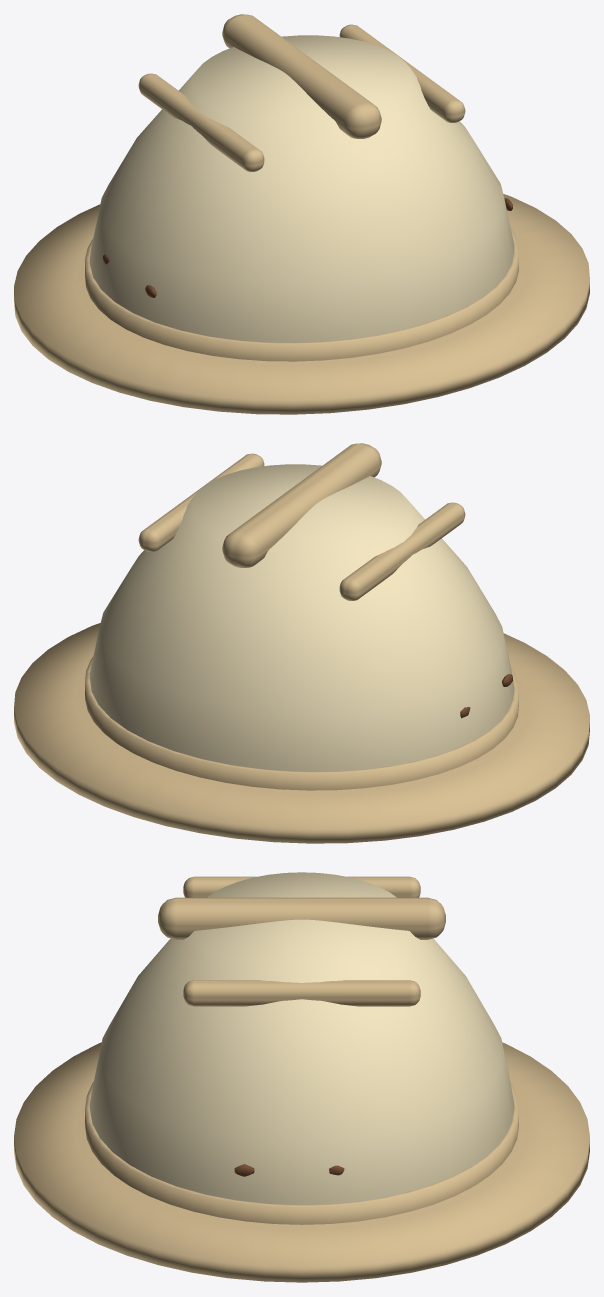
Rendered from 09-dune-pith.glb.
3 views of the same model, one above another, from view 1: azimuth 30°, elevation 25°; view 2: azimuth 150°, elevation 25°; view 3: azimuth 270°, elevation 25° (orthographic). The views are drawn at different scales.
Visible parts, largest first — view 1: Hat09_Crown1, Hat09_Brim2, Hat09_Band3, Hat09_TopRidge4, Hat09_ShellRib5, Hat09_ShellRib6; view 2: Hat09_Crown1, Hat09_Brim2, Hat09_Band3, Hat09_TopRidge4, Hat09_ShellRib5, Hat09_ShellRib6; view 3: Hat09_Crown1, Hat09_Brim2, Hat09_Band3, Hat09_TopRidge4, Hat09_ShellRib6, Hat09_ShellRib5.
Boxes of the visible parts, x1,y1,x2,y2 form: Hat09_Crown1: [89, 35, 514, 342]; Hat09_Brim2: [14, 194, 589, 414]; Hat09_Band3: [85, 228, 518, 361]; Hat09_TopRidge4: [222, 14, 381, 138]; Hat09_ShellRib5: [138, 73, 264, 171]; Hat09_ShellRib6: [339, 24, 465, 122]; Hat09_Crown1: [89, 464, 514, 771]; Hat09_Brim2: [14, 623, 589, 843]; Hat09_Band3: [85, 657, 518, 790]; Hat09_TopRidge4: [222, 443, 381, 567]; Hat09_ShellRib5: [339, 502, 465, 600]; Hat09_ShellRib6: [138, 453, 264, 551]; Hat09_Crown1: [89, 872, 514, 1204]; Hat09_Brim2: [14, 1042, 589, 1282]; Hat09_Band3: [85, 1081, 518, 1224]; Hat09_TopRidge4: [158, 897, 445, 939]; Hat09_ShellRib6: [183, 980, 420, 1006]; Hat09_ShellRib5: [183, 876, 420, 897].
Size of the model in its own units: 0.86 by 0.3845 by 0.7998.
